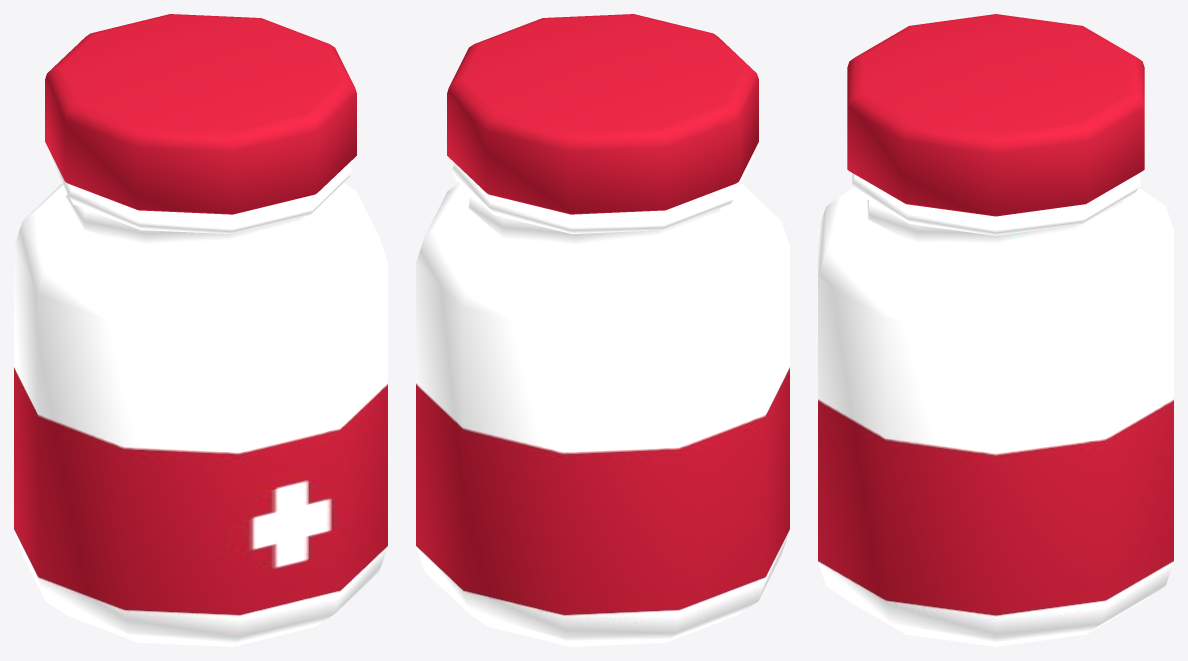
Rendered from Bottle.glb.
3 renders of one model, left to right at view 1: azimuth 30°, elevation 25°; view 2: azimuth 150°, elevation 25°; view 3: azimuth 270°, elevation 25°, orthographic.
Parts seen in each view (by area): view 1: Bottle; view 2: Bottle; view 3: Bottle.
Boxes of the visible parts, bbox=[...] form: Bottle: bbox=[14, 14, 387, 646]; Bottle: bbox=[416, 14, 789, 646]; Bottle: bbox=[818, 14, 1173, 646].
Size of the model in its own units: 0.066 by 0.1 by 0.0628.
1 material, 1 textured.
